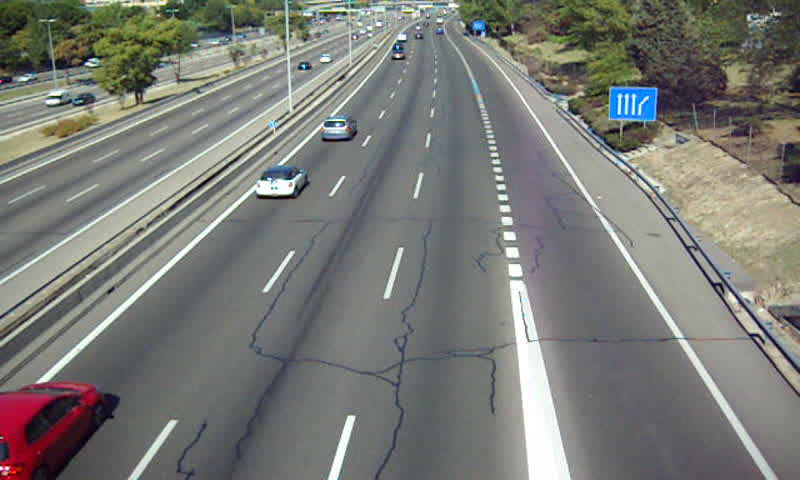car: (1, 383, 106, 480), (256, 166, 307, 199), (319, 116, 356, 140), (391, 50, 407, 62)
